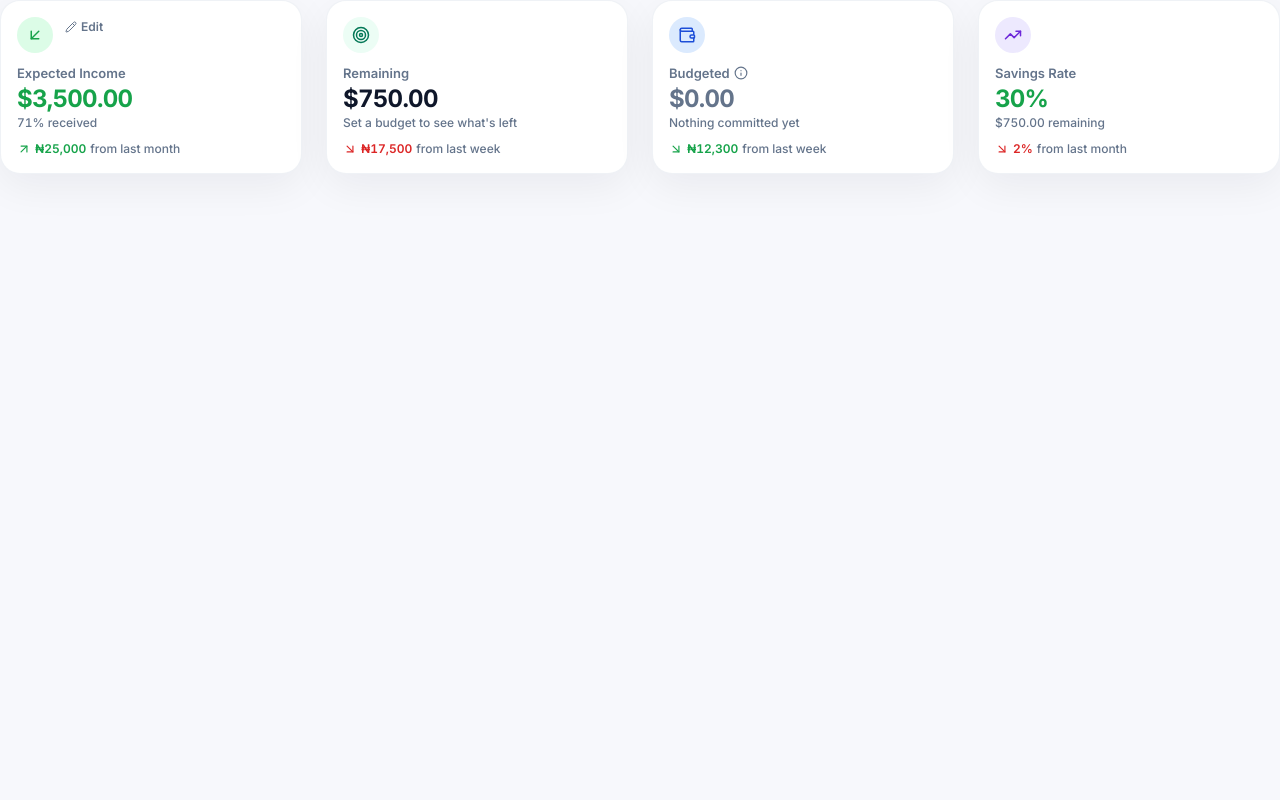
Test: SummaryCards expected income › computes Remaining and Net from received income, not expected
Expected: the text "$750.00" is shown, top-left (343, 84), bottom-right (438, 113)
Expected: the text "$750.00 remaining" is shown, top-left (995, 115), bottom-right (1105, 131)
Click the button "Savings Rate".
click(1013, 35)  # box top-left (978, 0), bottom-right (1279, 174)
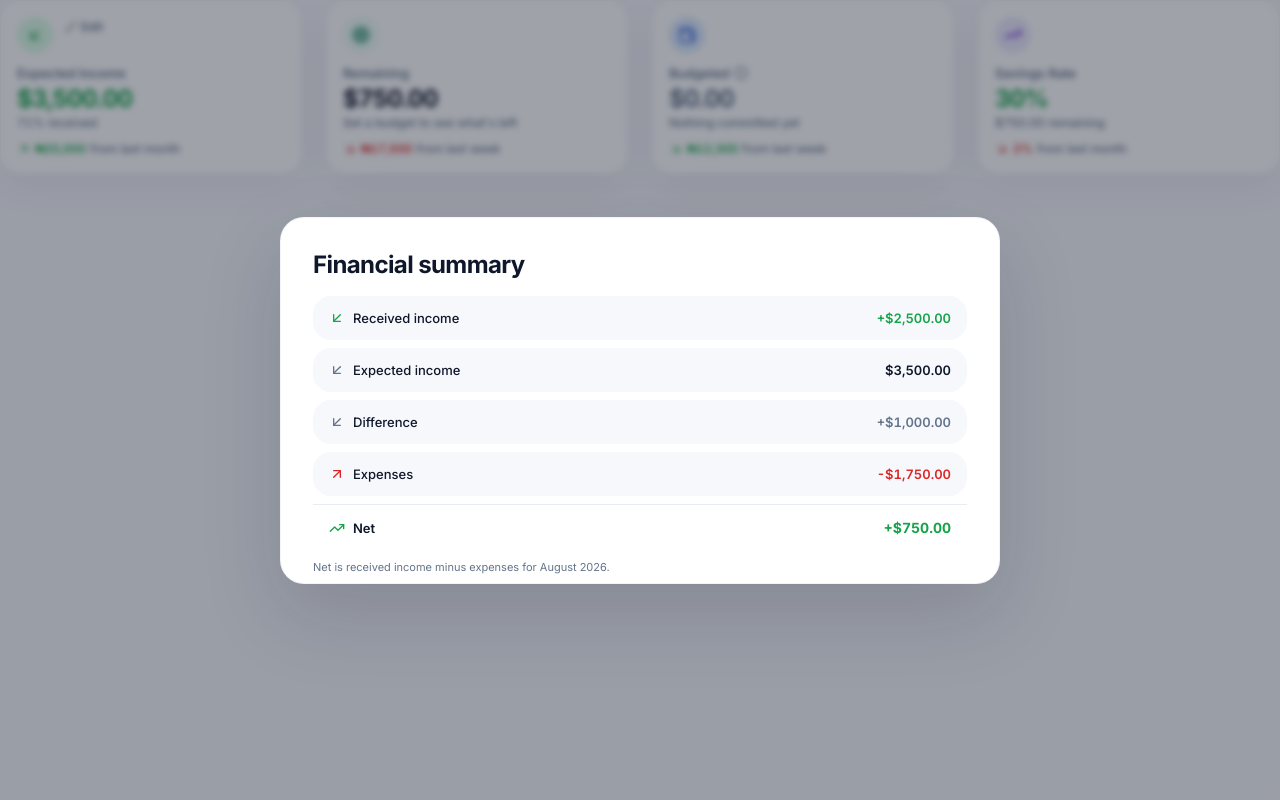
Expected: the text "+$2,500.00" is shown, top-left (877, 308), bottom-right (951, 328)
Expected: the text "$3,500.00" is shown, top-left (885, 360), bottom-right (951, 380)
Expected: the text "-$1,750.00" is shown, top-left (877, 464), bottom-right (951, 484)
